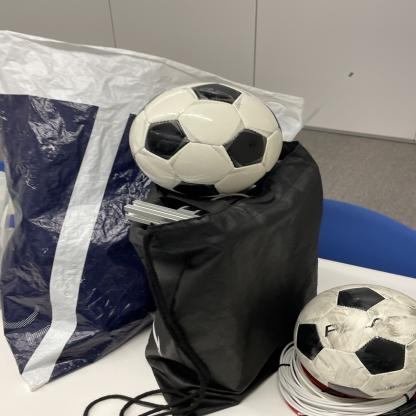ball: (128, 83, 282, 196), (297, 283, 416, 397)
